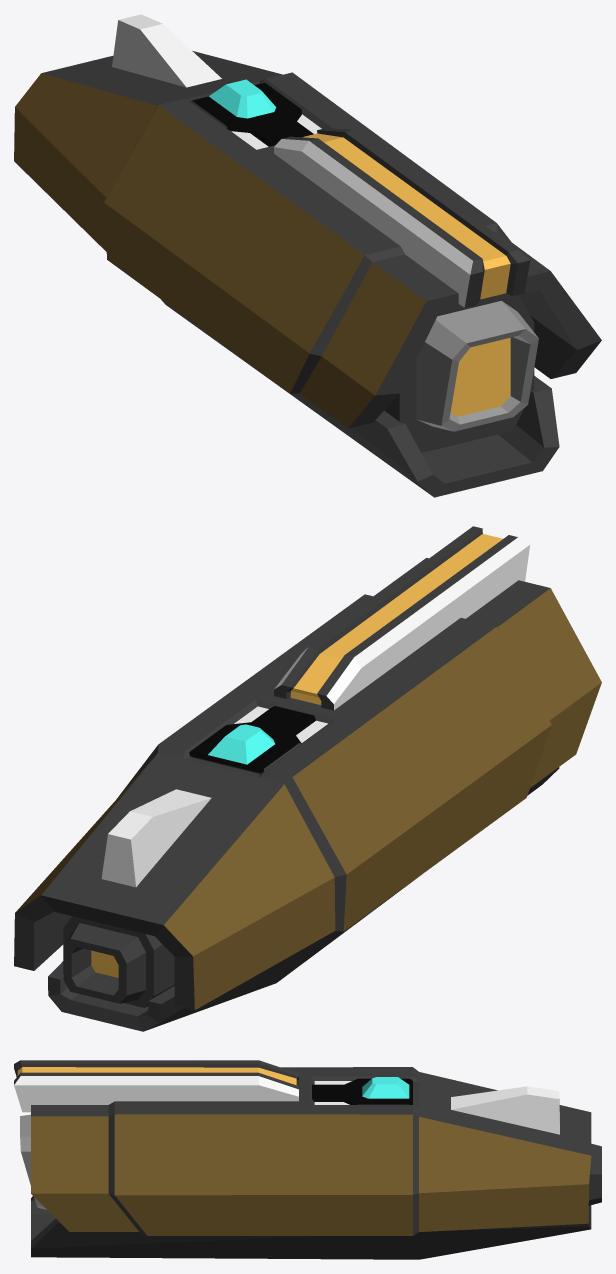
File: Ship_2x4_C1.fbx
3 renders of one model, top to bottom at view 1: azimuth 30°, elevation 25°; view 2: azimuth 150°, elevation 25°; view 3: azimuth 270°, elevation 25°, orthographic. The views are drawn at different scales.
Parts seen in each view (by area): view 1: Ship_2x4_C1; view 2: Ship_2x4_C1; view 3: Ship_2x4_C1.
Boxes of the visible parts, x1,y1,x2,y2 form: Ship_2x4_C1: (14,14,601,497); Ship_2x4_C1: (14,526,601,1031); Ship_2x4_C1: (14,1060,601,1259).
Size of the model in its own units: 132 by 123 by 381.
